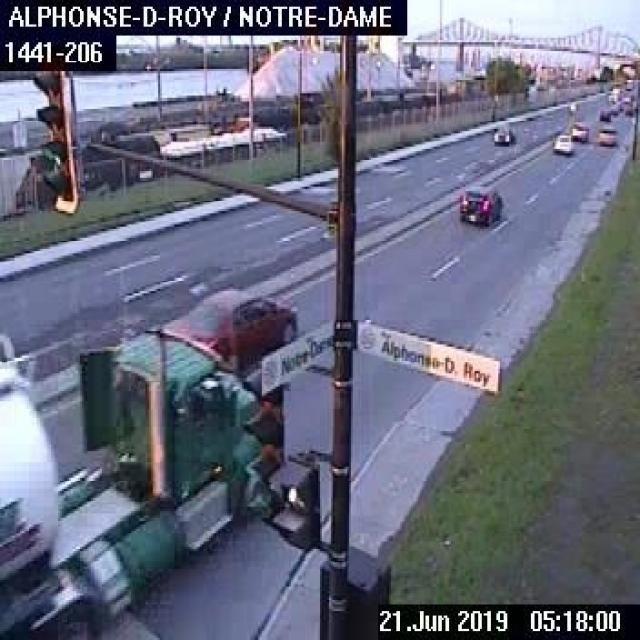vehicle: (0, 315, 276, 637), (160, 288, 297, 369), (458, 185, 500, 222), (566, 118, 588, 142), (551, 130, 571, 153), (596, 124, 616, 144), (491, 124, 511, 144)
